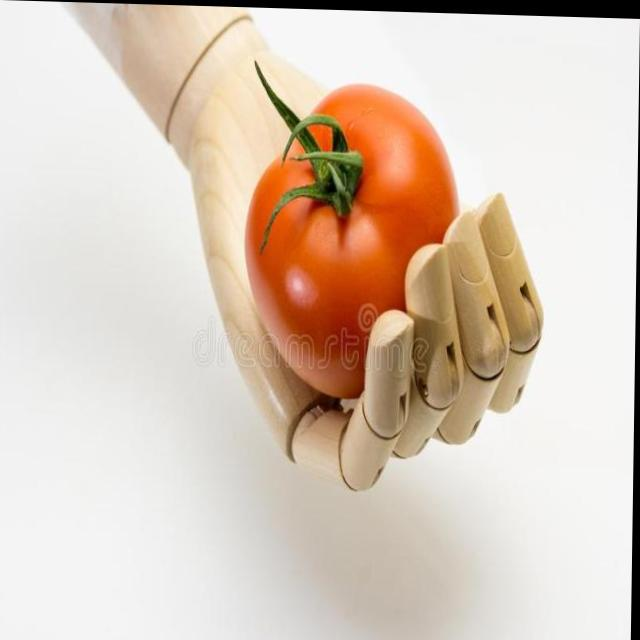sari: (240, 84, 479, 375)
